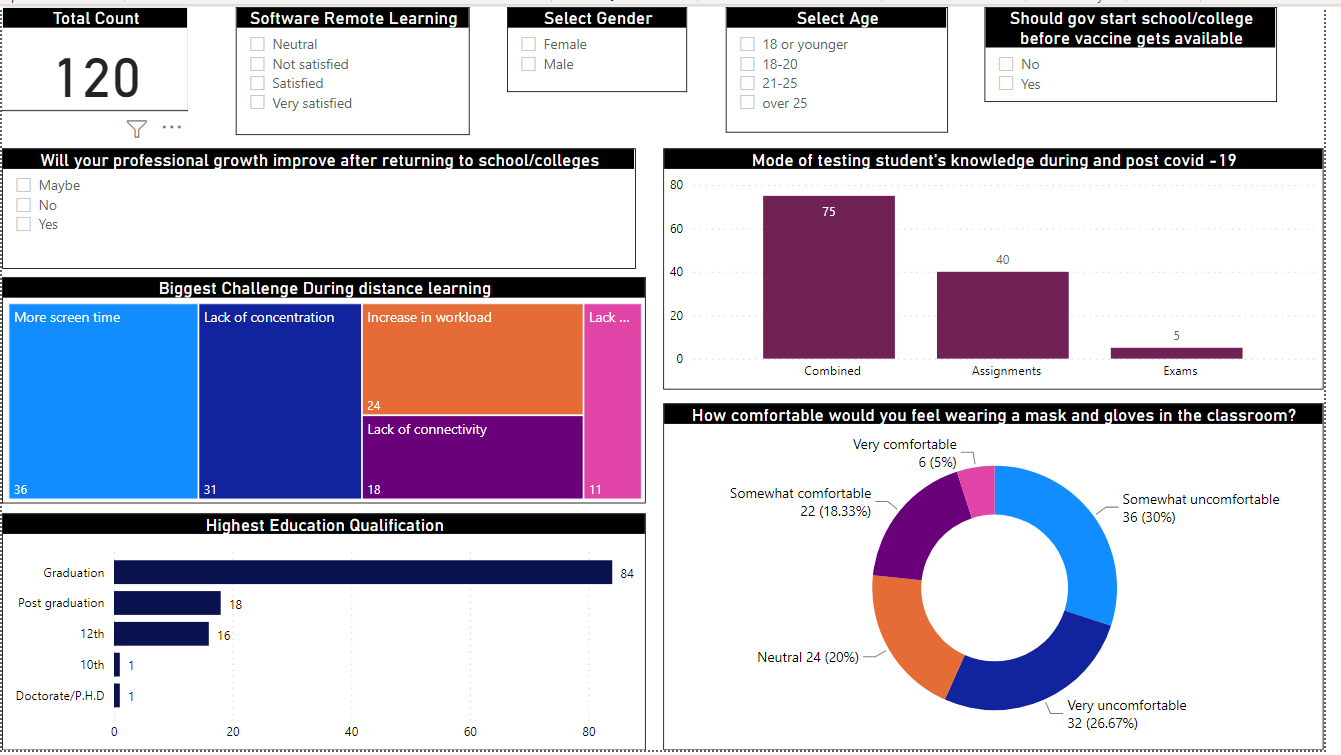

The page's visual inventory and layout, read from the dashboard file:
{"tool":"powerbi","page":{"name":"Personal Growth","canvas":[1280,720],"ordinal":2},"visuals":[{"type":"card","title":"Total Count","fields":{"Values":["CountNonNull(Return To Education Institutes.Random number)"]},"box":[0,0,180.4,101],"z":0},{"type":"slicer","title":"Select Gender","fields":{"Values":["Return To Education Institutes.Gender"]},"box":[489.1,0,174.6,82.2],"z":1000},{"type":"slicer","title":"Select Age","fields":{"Values":["Return To Education Institutes.Age"]},"box":[701.2,0,215,121.2],"z":2000},{"type":"clusteredBarChart","title":"Highest Education Qualification","fields":{"Category":["Return To Education Institutes.Highest education"],"Y":["CountNonNull(Return To Education Institutes.Random number)"]},"box":[0,490.6,623.3,229.4],"z":3000},{"type":"columnChart","title":"Mode of testing student''s knowledge during and post covid -19","fields":{"Category":["Return To Education Institutes. Which would be more suitable and comfortable mode of testing student's knowledge during "],"Y":["CountNonNull(Return To Education Institutes.Random number)"]},"box":[640.6,137.1,639.2,233.7],"z":4000},{"type":"donutChart","title":"How comfortable would you feel wearing a mask and gloves in the classroom?","fields":{"Category":["Return To Education Institutes.How comfortable would you feel wearing a mask and gloves in the classroom?"],"Y":["CountNonNull(Return To Education Institutes.Random number)"]},"box":[640.6,383.8,639.2,336.2],"z":5000},{"type":"slicer","title":"Should gov start school/college before vaccine gets available","fields":{"Values":["Return To Education Institutes.Do you think government should start school /college/institute before the vaccine gets av"]},"box":[950.9,0,282.8,92.3],"z":6000},{"type":"treemap","title":"Biggest Challenge During distance learning","fields":{"Values":["CountNonNull(Return To Education Institutes.Random number)"],"Group":["Return To Education Institutes.Biggest challenged during distance learning"]},"box":[0,261.2,623.3,219.3],"z":7000},{"type":"slicer","title":"Software Remote Learning","fields":{"Values":["Return To Education Institutes.SoftwareRemoteLearning"]},"box":[226.5,0,226.5,124.1],"z":8000},{"type":"slicer","title":"Will your professional growth improve after returning to school/colleges","fields":{"Values":["Return To Education Institutes. Do you think returning to school/college/institute will improve your professional growth"]},"box":[0,137.1,613.2,116.9],"z":9000}]}

Visuals, with their boxes in screenshot pixels (x1, y1, x2, y2), scaled from the page's 1280x720 canvas onto the 1341x755 screenshot:
"Total Count" card: x1=0, y1=0, x2=189, y2=106
"Select Gender" slicer: x1=512, y1=0, x2=695, y2=86
"Select Age" slicer: x1=735, y1=0, x2=960, y2=127
"Highest Education Qualification" clusteredBarChart: x1=0, y1=514, x2=653, y2=754
"Mode of testing student''s knowledge during and post covid -19" columnChart: x1=671, y1=144, x2=1340, y2=389
"How comfortable would you feel wearing a mask and gloves in the classroom?" donutChart: x1=671, y1=402, x2=1340, y2=754
"Should gov start school/college before vaccine gets available" slicer: x1=996, y1=0, x2=1292, y2=97
"Biggest Challenge During distance learning" treemap: x1=0, y1=274, x2=653, y2=504
"Software Remote Learning" slicer: x1=237, y1=0, x2=475, y2=130
"Will your professional growth improve after returning to school/colleges" slicer: x1=0, y1=144, x2=642, y2=266
